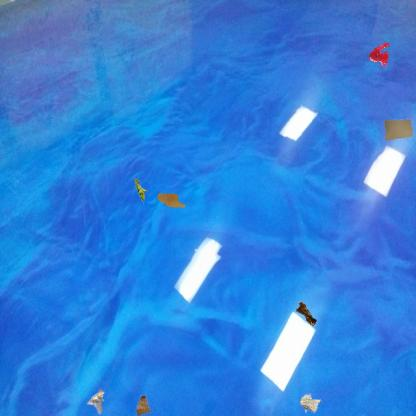dirty: (295, 299, 319, 329), (382, 117, 413, 140), (297, 392, 324, 415), (85, 387, 106, 415), (132, 176, 150, 204), (134, 394, 150, 415)
liquid: (367, 41, 391, 68), (158, 193, 186, 207)
